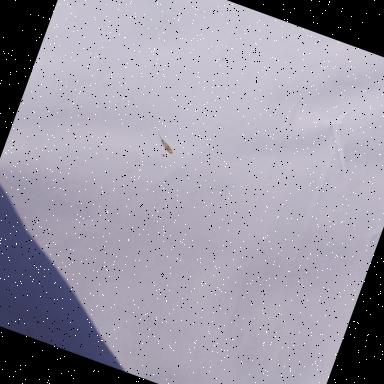pbw: (154, 134, 179, 156)
